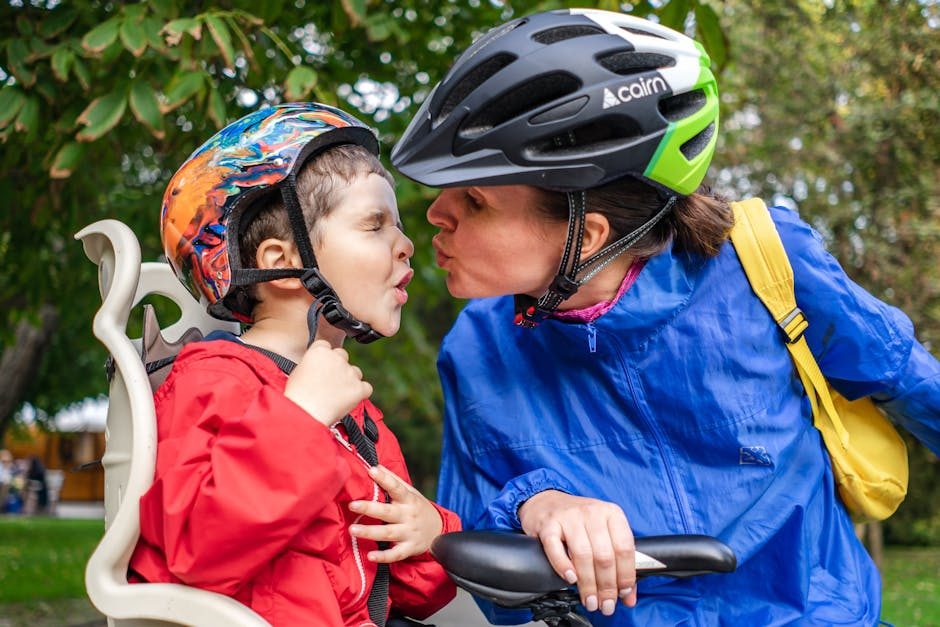safety_helmet: (389, 6, 721, 198), (158, 100, 389, 344)
